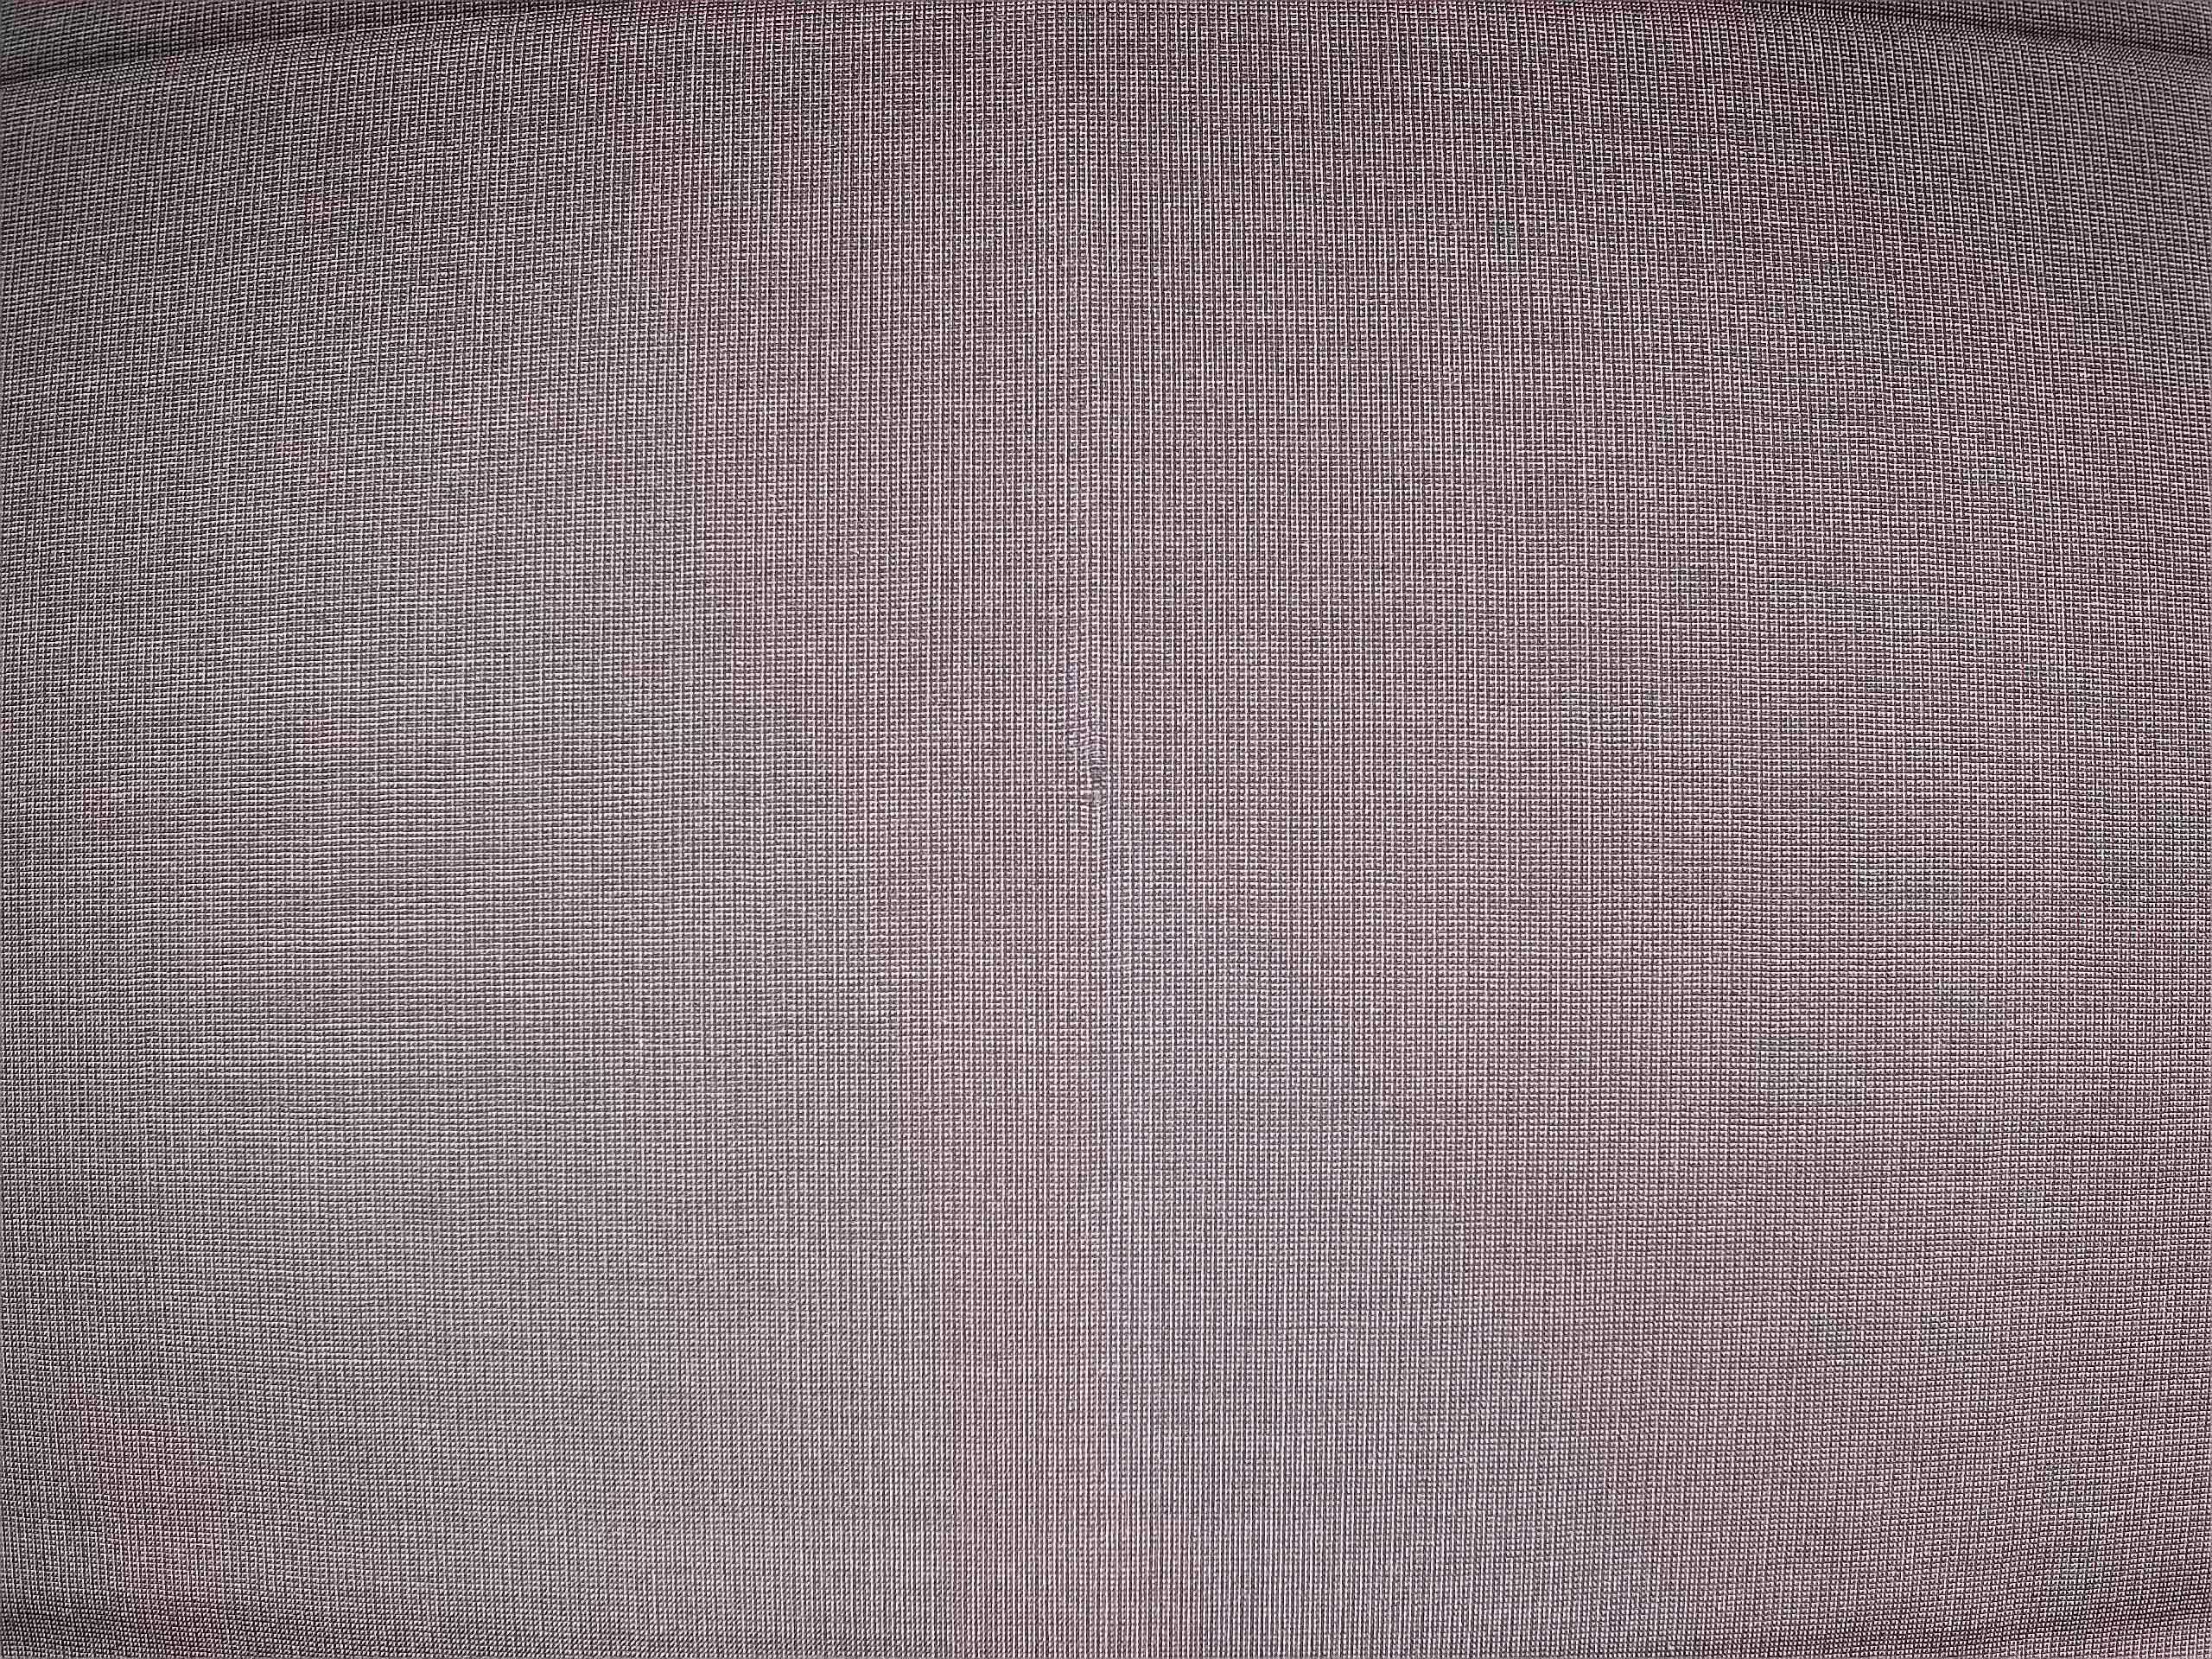rubbing-hole: (1054, 708, 1134, 829)
